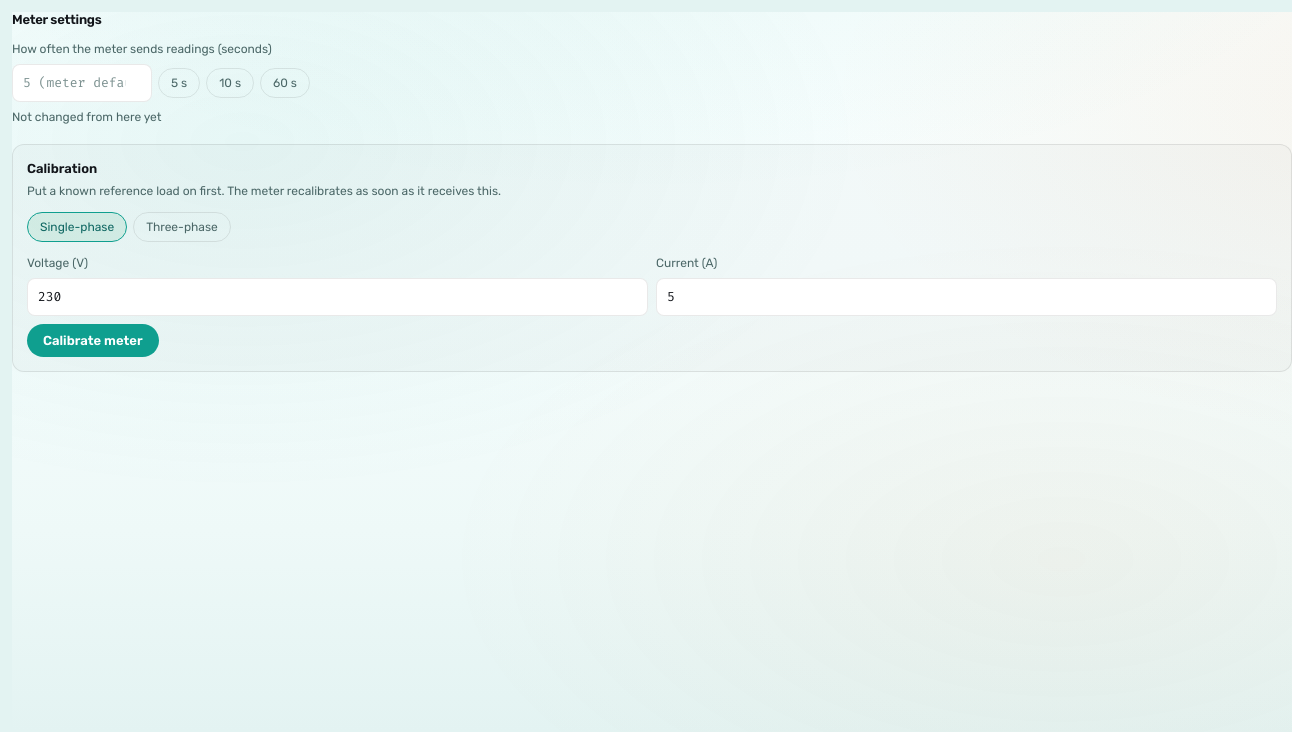
Scenario: C1: single-phase shows only V1/I1, three-phase shows all six
Check: the number field labelled "Voltage (V)" is shown, box [27,278,648,316]
Check: the field labelled "Phase B voltage (V)" is not shown
Step 1. Click the radio button labelled "Three-phase" → (182, 227), box [133,212,231,242]
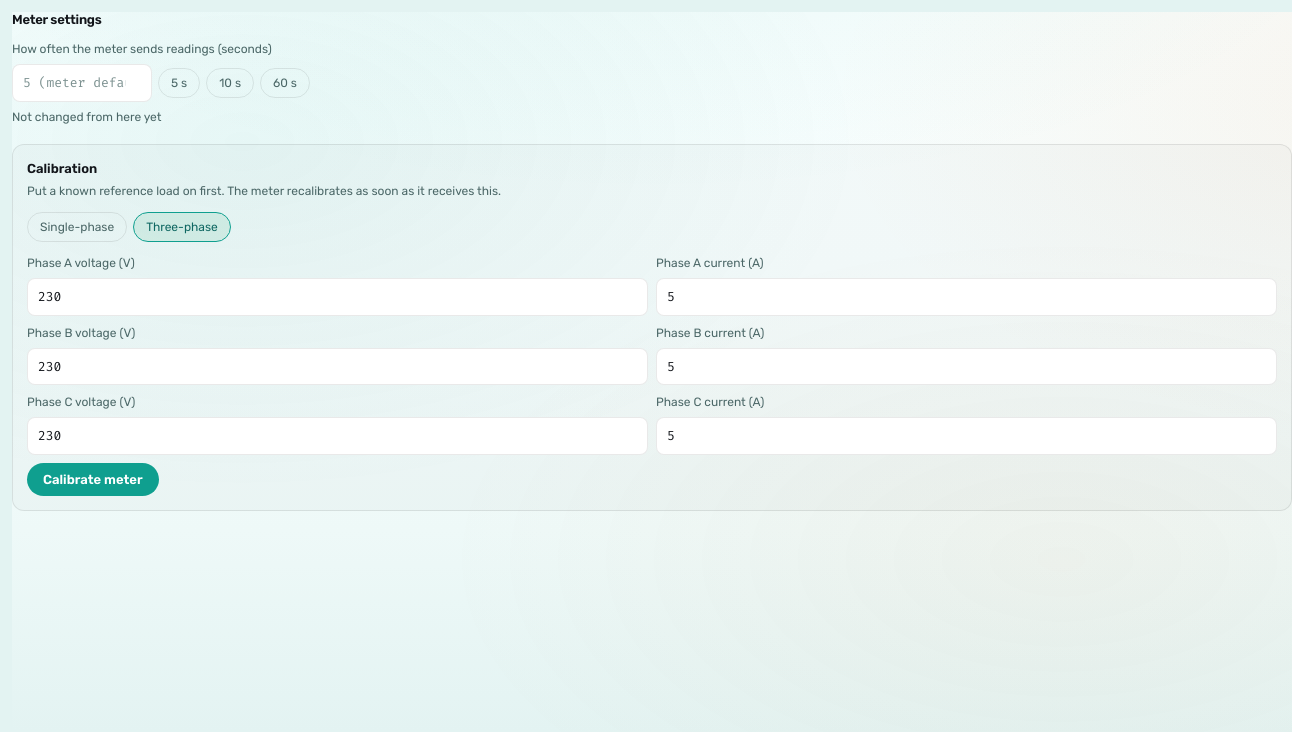
Check: the number field labelled "Phase B voltage (V)" is shown, box [27,348,648,385]
